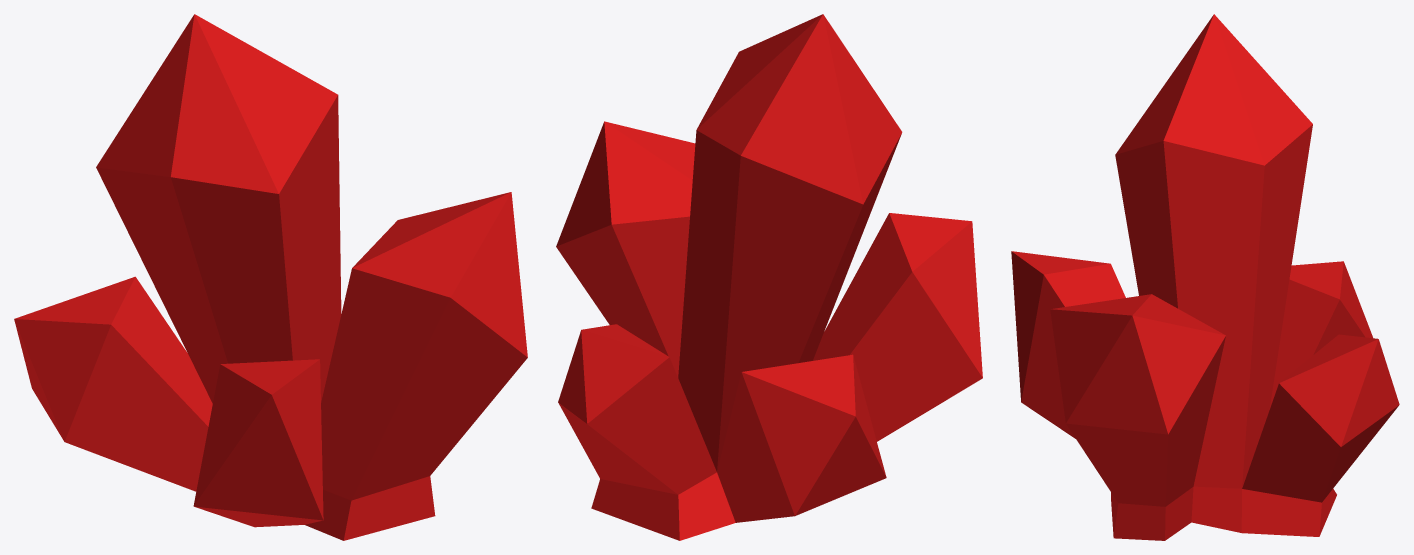
The model's file is Crystal-C02.fbx.
3 views of the same model, side by side, from view 1: azimuth 30°, elevation 25°; view 2: azimuth 150°, elevation 25°; view 3: azimuth 270°, elevation 25° (orthographic). The views are drawn at different scales.
Parts seen in each view (by area): view 1: Crystal-C02; view 2: Crystal-C02; view 3: Crystal-C02.
Part boxes in pixels (left/top/right/bottom): Crystal-C02: left=14, top=14, right=527, bottom=540; Crystal-C02: left=556, top=14, right=982, bottom=540; Crystal-C02: left=1011, top=14, right=1399, bottom=540.
Size of the model in its own units: 99.28 by 119 by 93.14.
